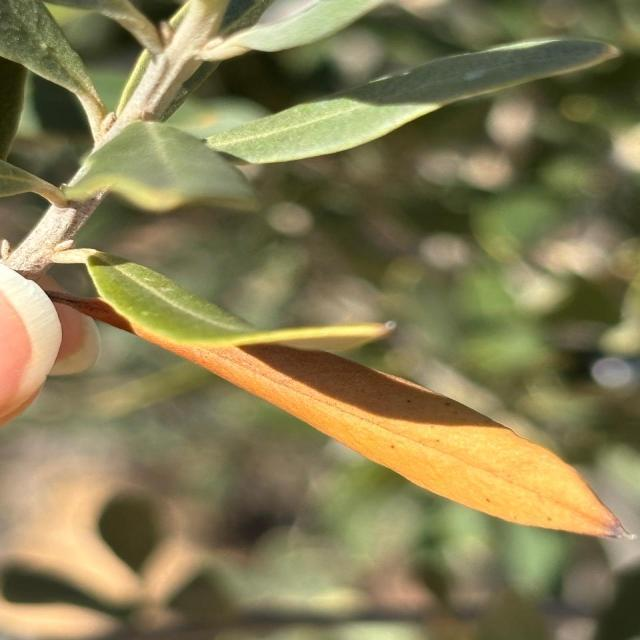OlivePeacockSpot: (173, 343, 630, 538)
